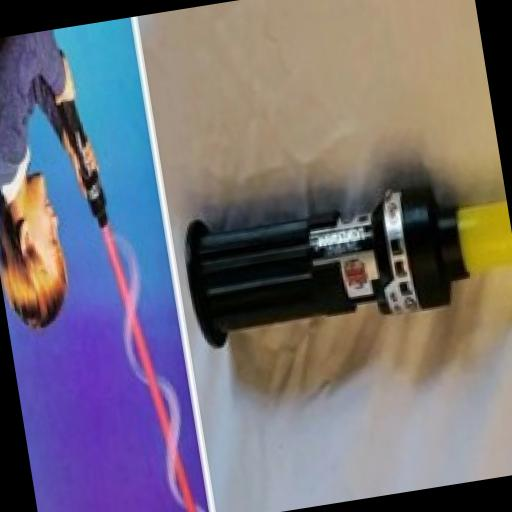sith saber: (49, 90, 205, 512)
